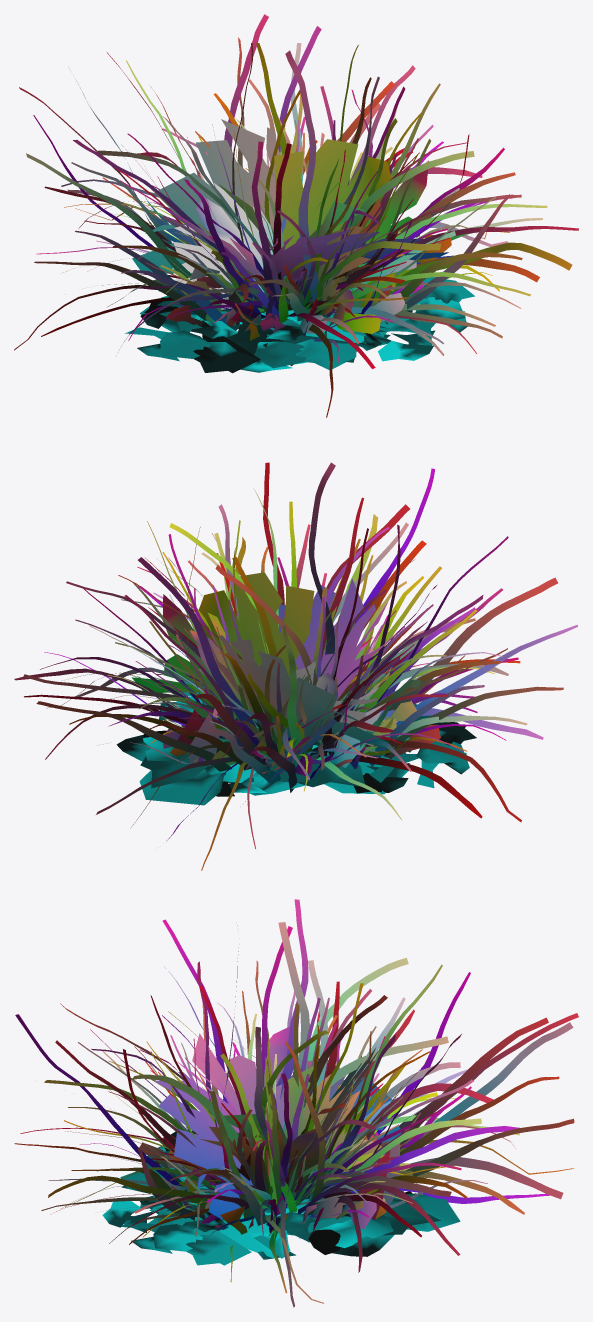
Rendered from Wild_Grass_vczndjqja_High_vczndjqja_VarE_LOD0.fbx.
3 views of the same model, one above another, from view 1: azimuth 30°, elevation 25°; view 2: azimuth 150°, elevation 25°; view 3: azimuth 270°, elevation 25° (orthographic). The views are drawn at different scales.
Parts seen in each view (by area): view 1: _urzw_VarE_LOD0; view 2: _urzw_VarE_LOD0; view 3: _urzw_VarE_LOD0.
Part boxes in pixels (x1=…): _urzw_VarE_LOD0: x1=14, y1=14, x2=578, y2=417; _urzw_VarE_LOD0: x1=14, y1=462, x2=577, y2=870; _urzw_VarE_LOD0: x1=14, y1=899, x2=578, y2=1307.
Size of the model in its own units: 109 by 58.73 by 109.
